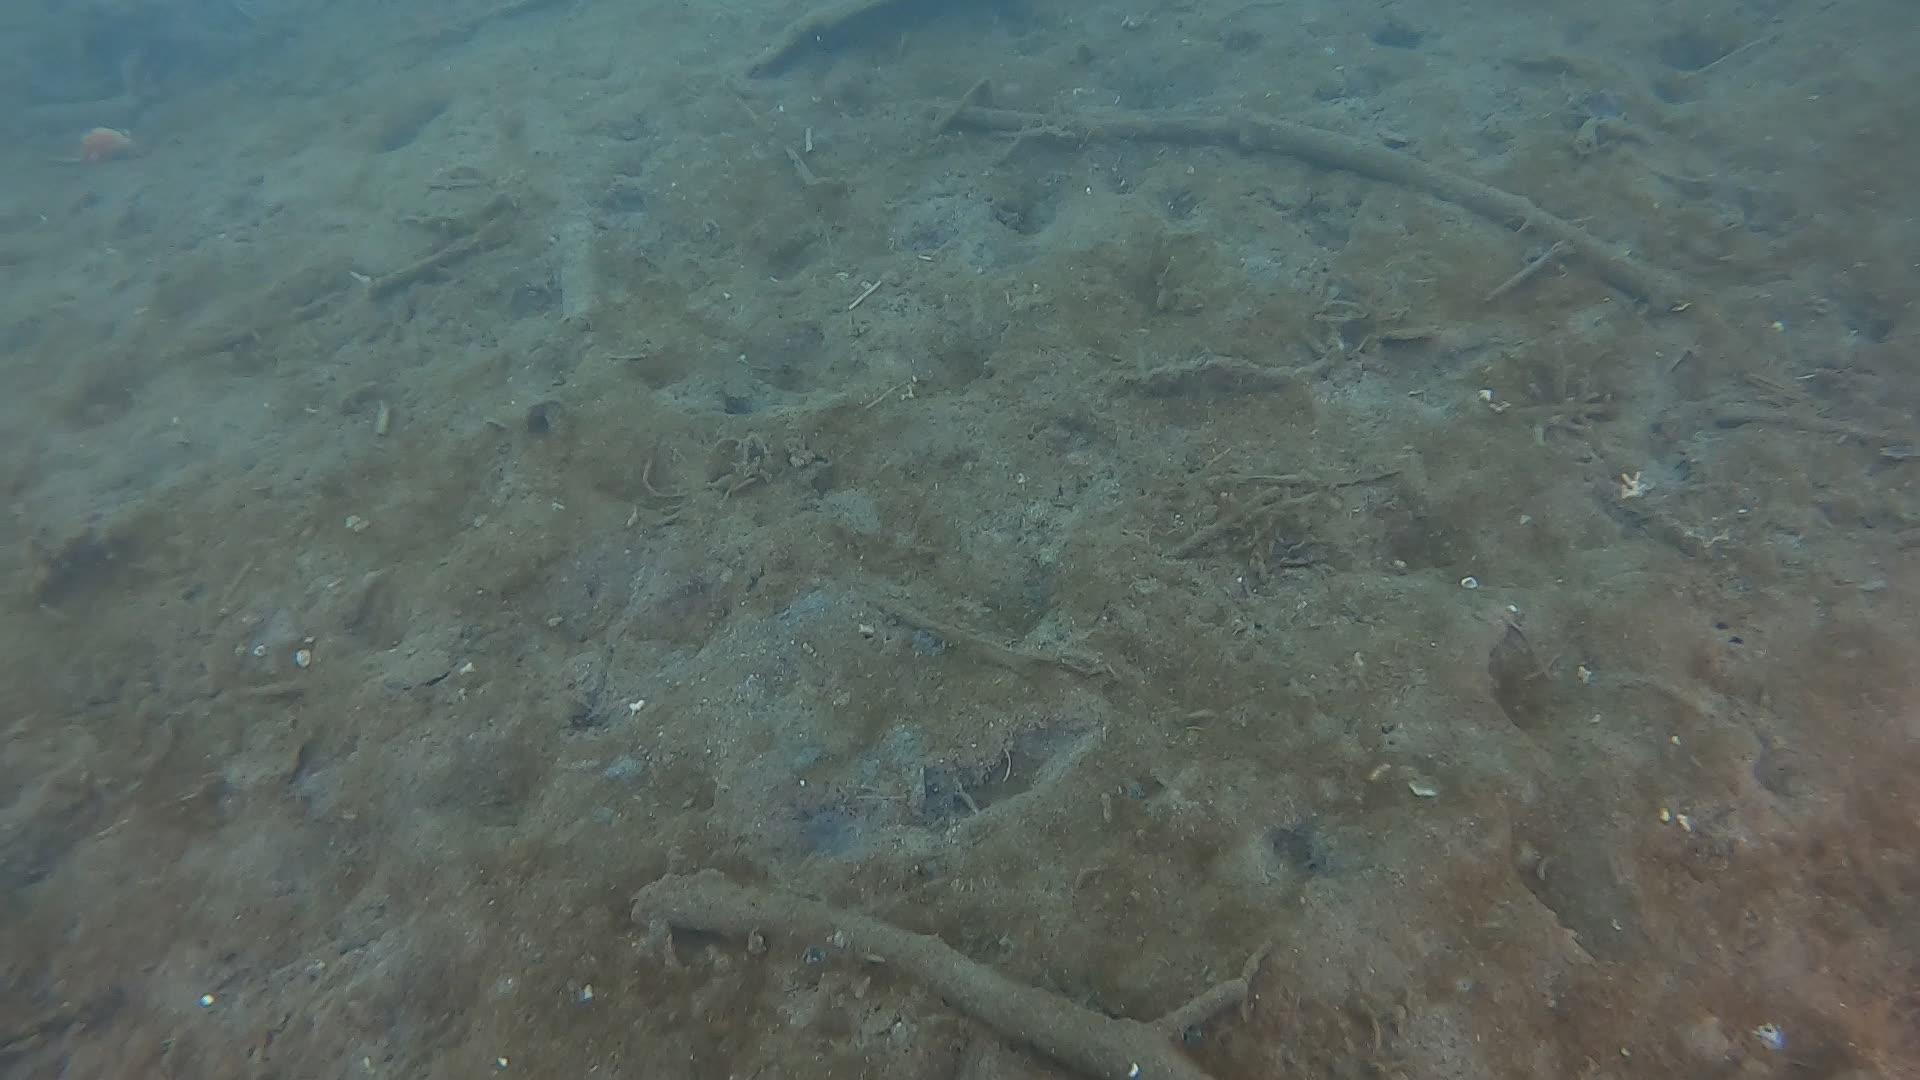wood: (923, 96, 1688, 311), (629, 866, 1275, 1080)
